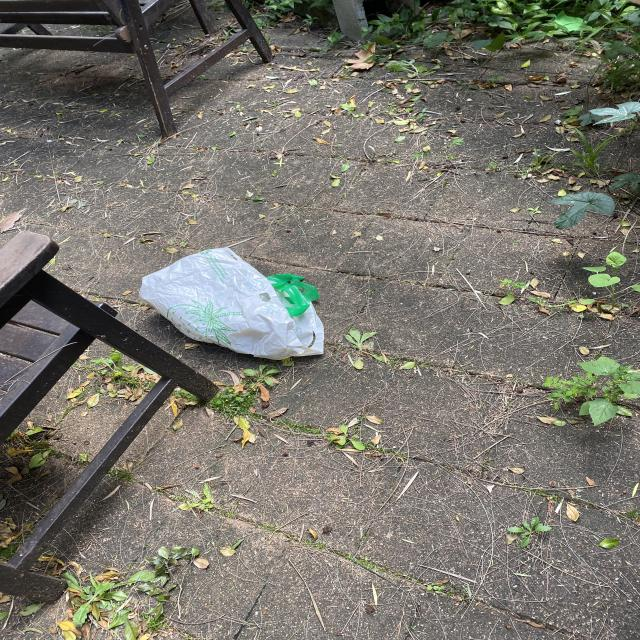bag: (138, 247, 327, 361)
